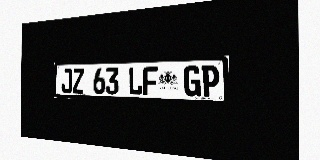3: (106, 67, 119, 94)
6: (93, 68, 105, 94)
F: (143, 66, 158, 95)
G: (184, 65, 201, 96)
J: (61, 68, 72, 93)
L: (129, 67, 143, 95)
P: (201, 65, 219, 97)
Z: (72, 68, 84, 93)
